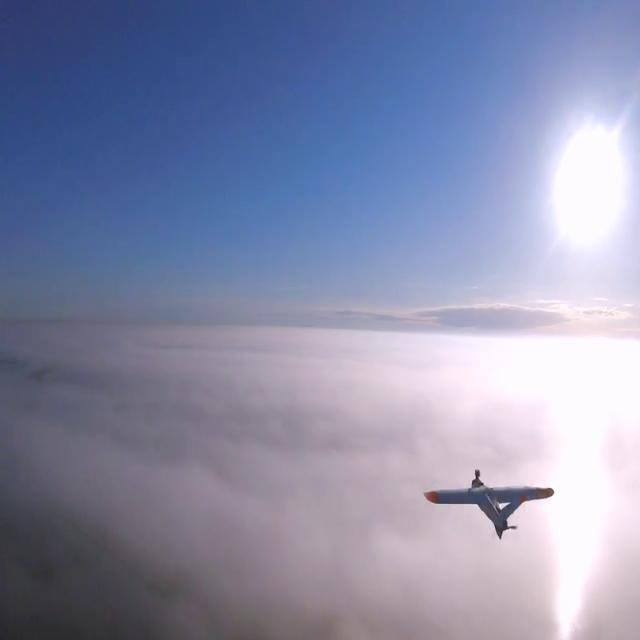iha: (422, 505, 556, 507)
